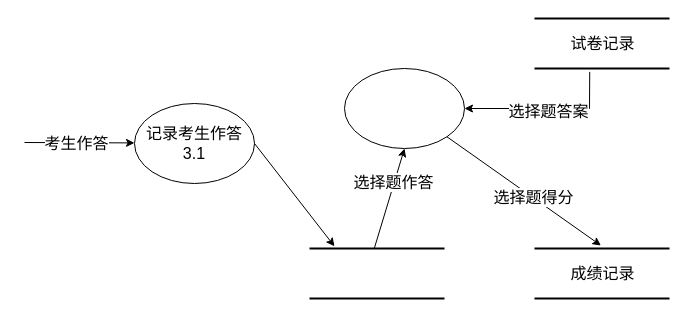
Image size: 688x316. Some labels were removed from this diagram. Each missing label, with the centre of its shape:
作答记录: [376,273]
自动批改选择题 3.2: [404,108]
